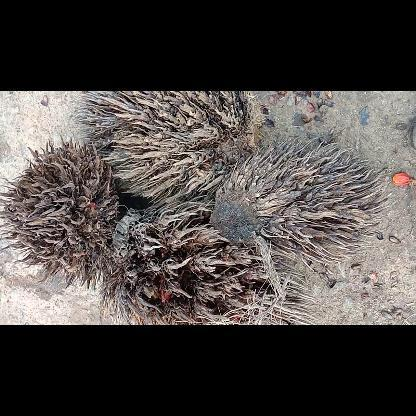Janjang kosong: (100, 204, 320, 324), (209, 137, 391, 271), (78, 91, 258, 209), (0, 135, 118, 288)
